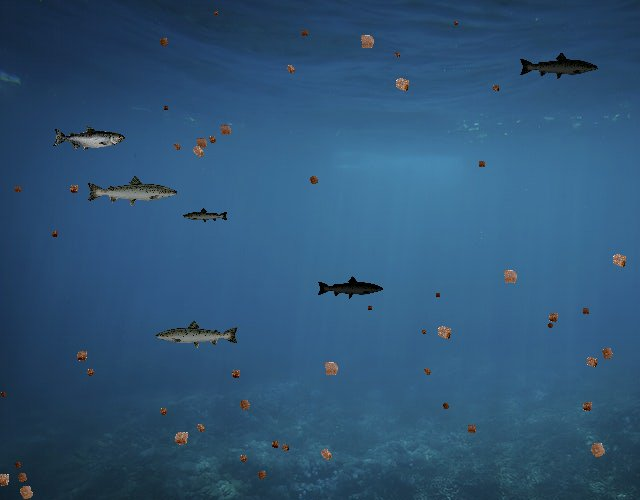Fish: (86, 174, 180, 208), (154, 319, 240, 350), (519, 51, 600, 81), (53, 125, 126, 151), (317, 276, 385, 300), (183, 207, 230, 224)
Pellet: (167, 424, 195, 452), (186, 139, 211, 164), (314, 443, 338, 467), (12, 467, 33, 488), (169, 139, 186, 156), (82, 364, 98, 380), (488, 81, 502, 95), (544, 319, 557, 332), (210, 8, 220, 18)
